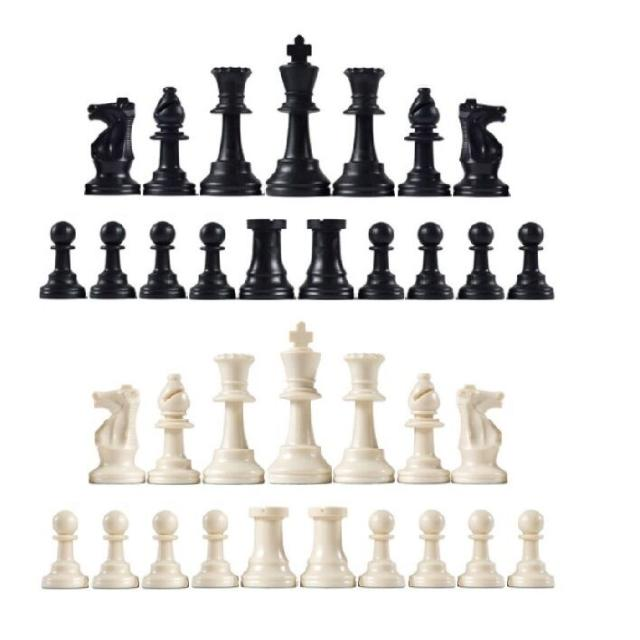black-bishop: (398, 88, 452, 197), (143, 87, 195, 196)
black-king: (266, 34, 330, 197)
black-knight: (453, 98, 509, 197), (85, 98, 141, 194)
black-pawn: (455, 222, 505, 300), (506, 222, 555, 300), (89, 221, 137, 299), (407, 222, 454, 300), (139, 222, 186, 300), (40, 220, 86, 299), (358, 222, 404, 300), (190, 222, 236, 300)
black-queen: (332, 67, 395, 196), (200, 66, 262, 196)
black-rook: (297, 219, 353, 300), (239, 220, 295, 300)
white-bishop: (146, 373, 201, 485), (397, 373, 450, 484)
white-king: (267, 320, 332, 485)
white-knight: (88, 384, 146, 485), (451, 384, 508, 485)
white-pawn: (41, 510, 89, 590), (458, 509, 506, 588), (408, 509, 456, 588), (191, 509, 239, 588), (141, 510, 189, 589), (358, 509, 405, 589), (92, 510, 139, 590), (507, 509, 554, 588)
white-queen: (332, 352, 395, 484), (202, 353, 264, 485)
white-rook: (240, 506, 299, 588), (300, 507, 356, 588)
